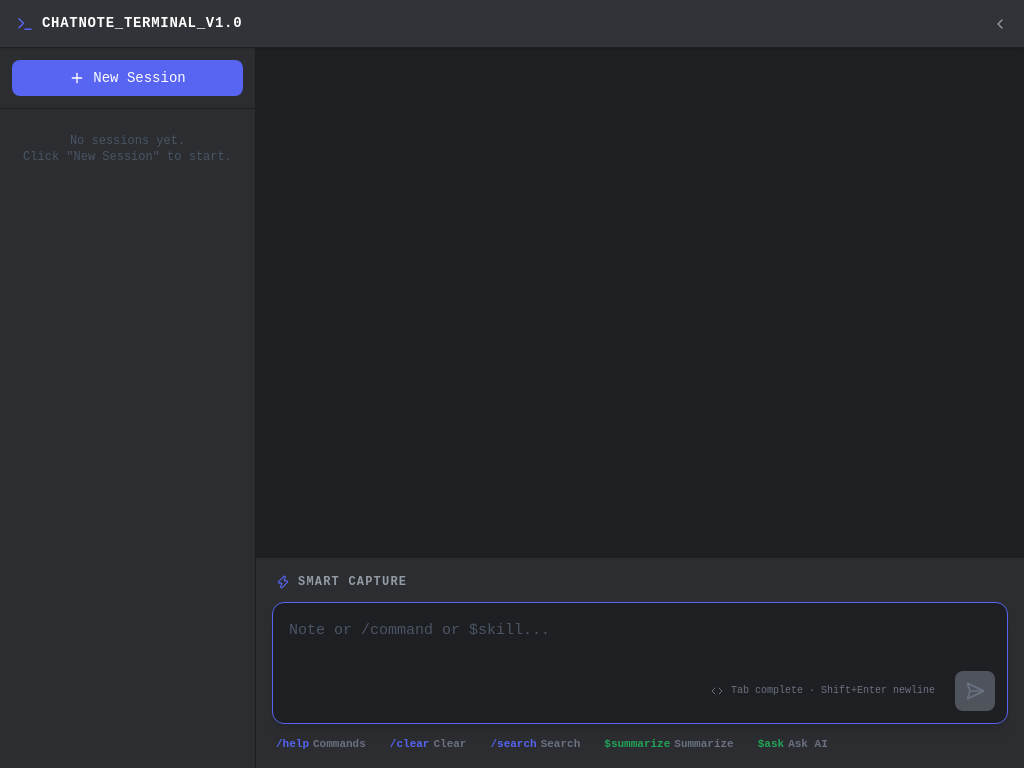
Test: context loading › renders context chips when loadedContext has entries
Type "@TestServer #general" into the text box with placeholder "Note or /command or $skill...". click: [640, 658]
box: [273,602,1007,714]
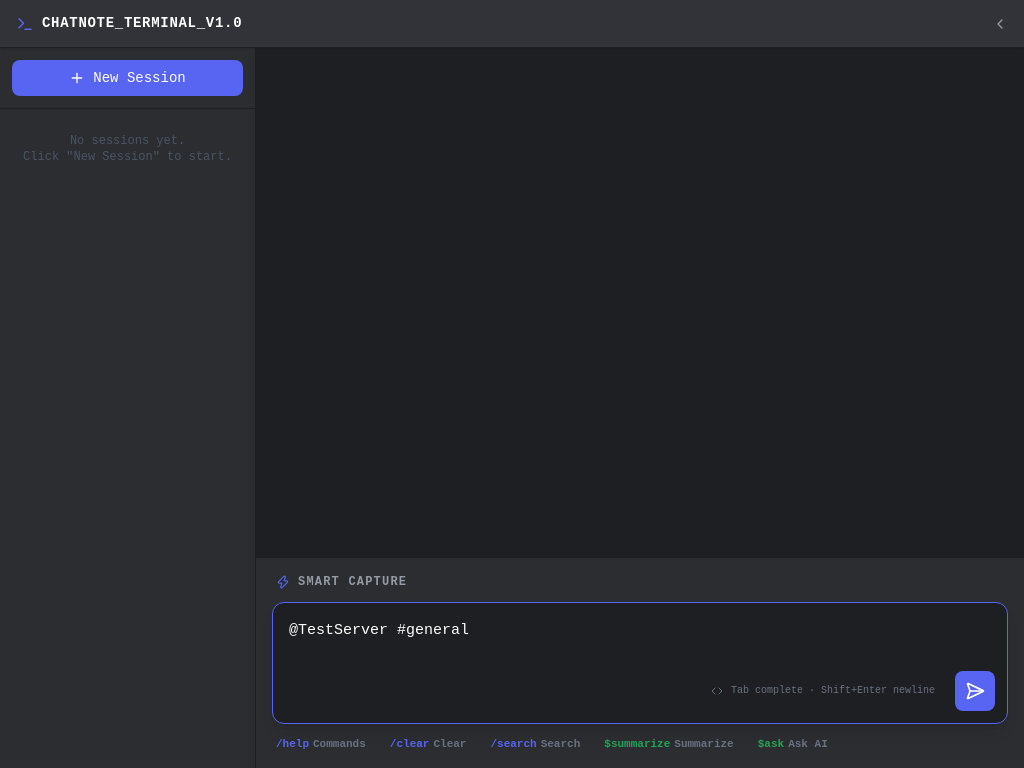
Click the 3rd button. click: [975, 690]
box: [955,670,995,710]
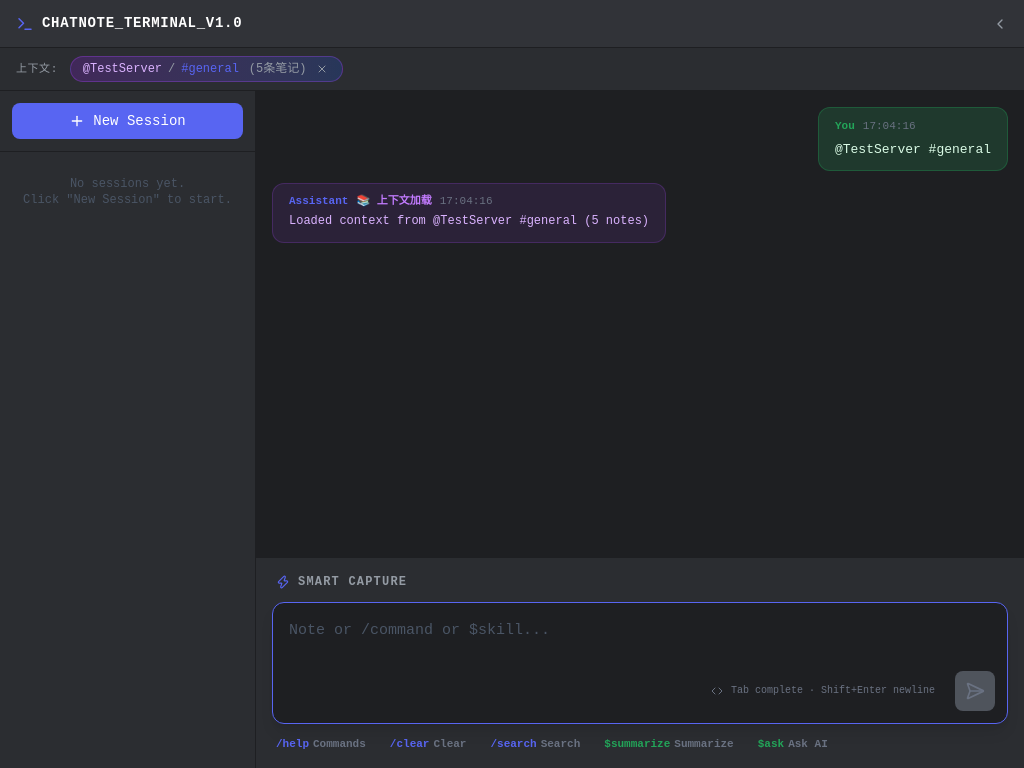
Expected: the text "上下文:" is shown, [16,61,58,77]
Expected: the text "(5条笔记)" is shown, [249,61,306,77]
